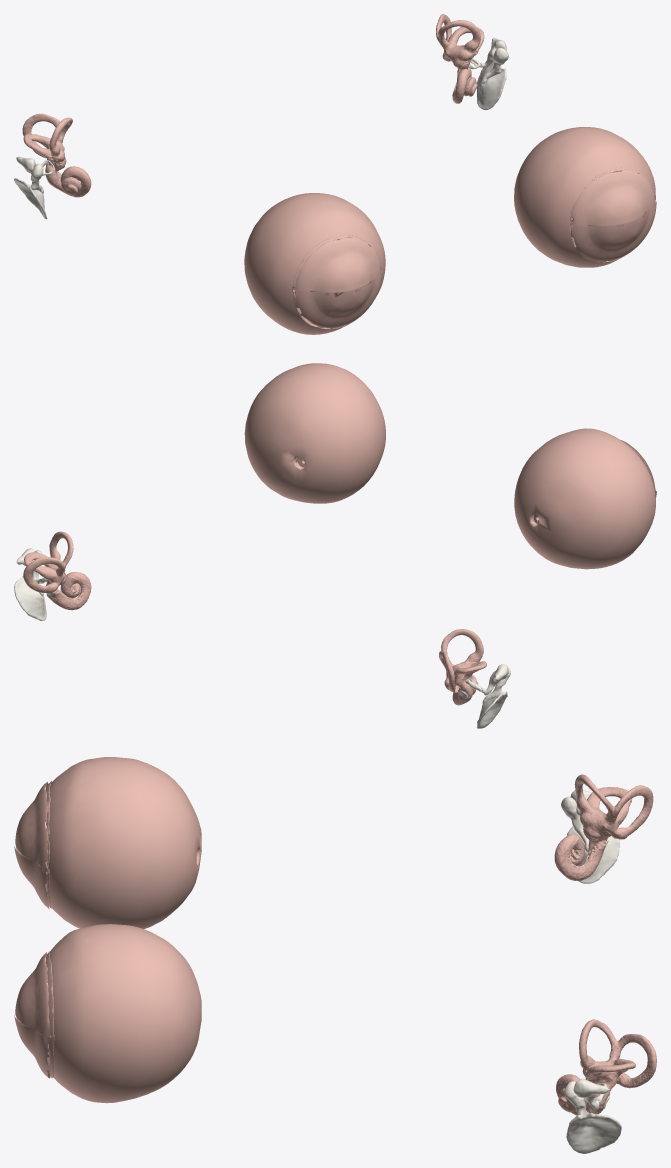
The model's file is sense_organs.head.glb.
The picture shows the model from 3 angles, top to bottom: view 1: azimuth 30°, elevation 25°; view 2: azimuth 150°, elevation 25°; view 3: azimuth 270°, elevation 25°; orthographic projection. The views are drawn at different scales.
Visible parts, largest first — view 1: left_sclera, right_sclera, right_palpebral_conjunctiva_of_upper_eyelid, left_palpebral_conjunctiva_of_upper_eyelid, right_palpebral_conjunctiva_of_lower_eyelid, left_palpebral_conjunctiva_of_lower_eyelid, right_semicircular_canals, left_semicircular_canals, right_cochlea, left_tympanic_membrane, left_cochlea, left_vestibule (+1 smaller); view 2: left_sclera, right_sclera, left_semicircular_canals, right_semicircular_canals, left_cochlea, left_tympanic_membrane, right_tympanic_membrane; view 3: left_sclera, right_sclera, left_semicircular_canals, right_semicircular_canals, left_palpebral_conjunctiva_of_upper_eyelid, right_palpebral_conjunctiva_of_upper_eyelid, left_tympanic_membrane, right_cochlea, left_palpebral_conjunctiva_of_lower_eyelid, right_vestibule, right_palpebral_conjunctiva_of_lower_eyelid, right_tympanic_membrane (+3 smaller).
Part boxes in pixels (bbox=[...]): left_sclera: bbox=[514, 127, 655, 267]; right_sclera: bbox=[244, 193, 385, 334]; right_palpebral_conjunctiva_of_upper_eyelid: bbox=[294, 237, 381, 292]; left_palpebral_conjunctiva_of_upper_eyelid: bbox=[570, 169, 655, 225]; right_palpebral_conjunctiva_of_lower_eyelid: bbox=[293, 271, 382, 329]; left_palpebral_conjunctiva_of_lower_eyelid: bbox=[569, 201, 656, 262]; right_semicircular_canals: bbox=[22, 113, 72, 162]; left_semicircular_canals: bbox=[436, 14, 484, 60]; right_cochlea: bbox=[45, 166, 91, 197]; left_tympanic_membrane: bbox=[476, 60, 506, 110]; left_cochlea: bbox=[452, 68, 477, 103]; left_vestibule: bbox=[444, 41, 472, 71]; left_sclera: bbox=[244, 363, 385, 503]; right_sclera: bbox=[514, 428, 655, 569]; left_semicircular_canals: bbox=[23, 531, 73, 593]; right_semicircular_canals: bbox=[439, 629, 486, 691]; left_cochlea: bbox=[49, 572, 91, 610]; left_tympanic_membrane: bbox=[14, 576, 46, 620]; right_tympanic_membrane: bbox=[476, 691, 507, 728]; left_sclera: bbox=[49, 924, 201, 1103]; right_sclera: bbox=[48, 757, 201, 928]; left_semicircular_canals: bbox=[579, 1019, 656, 1088]; right_semicircular_canals: bbox=[574, 774, 653, 839]; left_palpebral_conjunctiva_of_upper_eyelid: bbox=[15, 952, 50, 1037]; right_palpebral_conjunctiva_of_upper_eyelid: bbox=[15, 782, 48, 869]; left_tympanic_membrane: bbox=[566, 1113, 621, 1153]; right_cochlea: bbox=[554, 833, 606, 880]; left_palpebral_conjunctiva_of_lower_eyelid: bbox=[14, 1015, 50, 1078]; right_vestibule: bbox=[581, 807, 619, 844]; right_palpebral_conjunctiva_of_lower_eyelid: bbox=[14, 845, 49, 909]; right_tympanic_membrane: bbox=[567, 826, 619, 883].
Bounding box in the file's own units: 0.1064 × 0.0283 × 0.0968.
